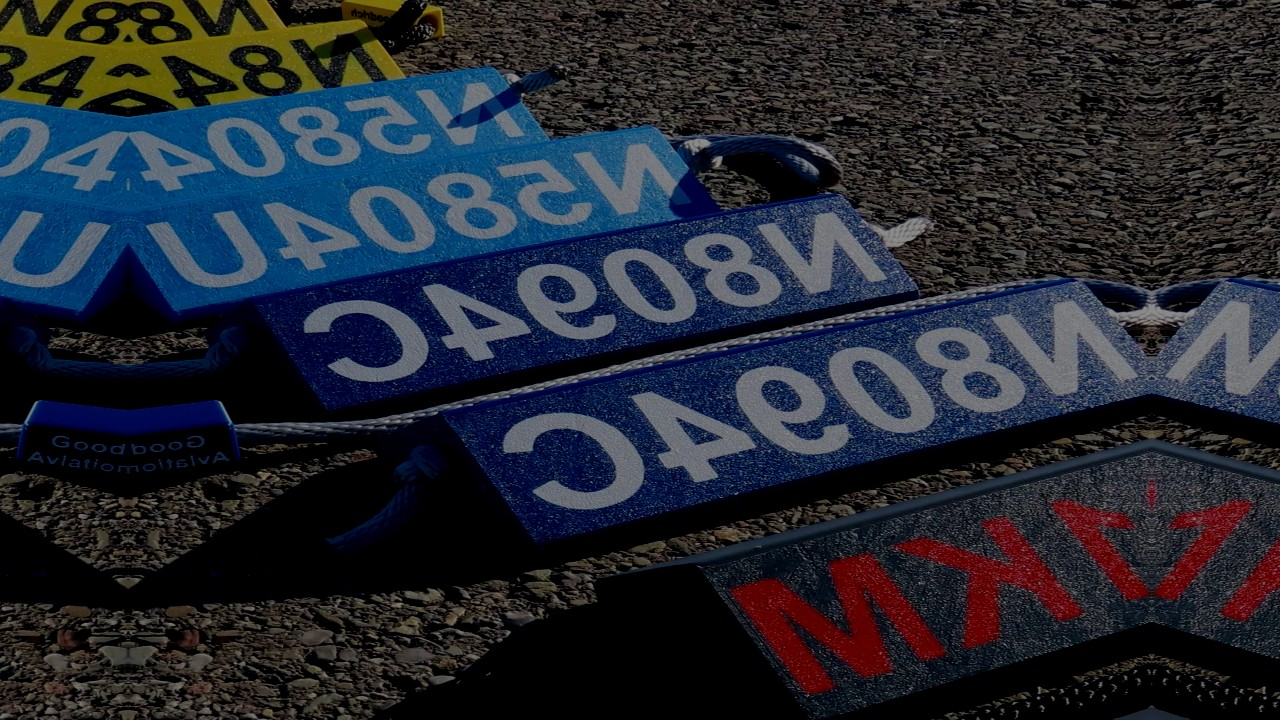chock: (364, 257, 1152, 577), (195, 180, 929, 438), (586, 395, 1152, 720), (128, 113, 725, 340), (128, 52, 561, 248), (128, 7, 429, 170), (1152, 395, 1280, 720), (1152, 257, 1280, 577), (0, 113, 128, 340), (0, 52, 128, 248), (0, 7, 128, 170), (128, 0, 315, 78), (0, 0, 128, 78)
